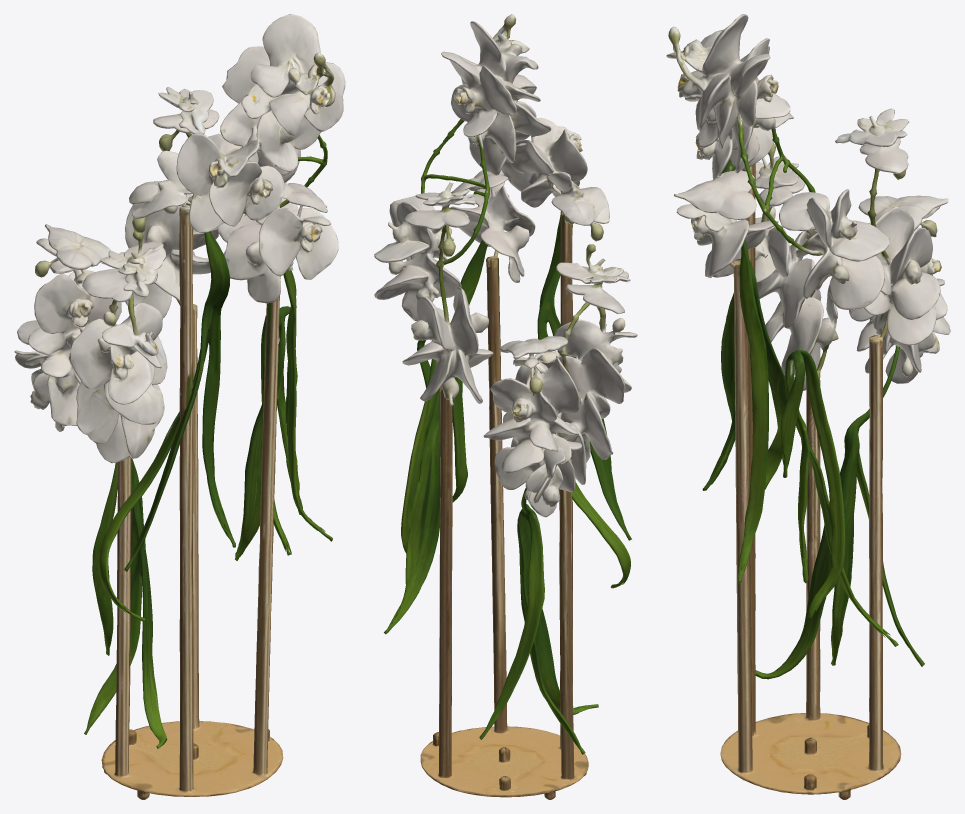
The model's file is design-orchid-sculpture.glb.
The picture shows the model from 3 angles, left to right: view 1: azimuth 30°, elevation 25°; view 2: azimuth 150°, elevation 25°; view 3: azimuth 270°, elevation 25°; orthographic projection. The views are drawn at different scales.
Visible parts, largest first — view 1: tripo_node_2811fa3e-908b-4866-b12e-c09fb01f3532; view 2: tripo_node_2811fa3e-908b-4866-b12e-c09fb01f3532; view 3: tripo_node_2811fa3e-908b-4866-b12e-c09fb01f3532.
Part boxes in pixels (bbox=[...]): tripo_node_2811fa3e-908b-4866-b12e-c09fb01f3532: bbox=[14, 14, 345, 799]; tripo_node_2811fa3e-908b-4866-b12e-c09fb01f3532: bbox=[374, 14, 637, 799]; tripo_node_2811fa3e-908b-4866-b12e-c09fb01f3532: bbox=[666, 14, 950, 799].
Bounding box in the file's own units: 0.2643 × 0.8 × 0.2634.
1 material, 1 textured.
